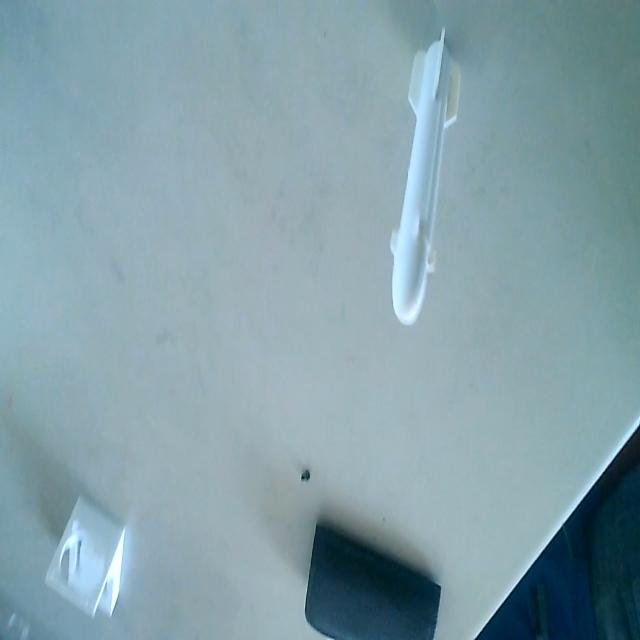Rocket: (388, 26, 464, 335)
